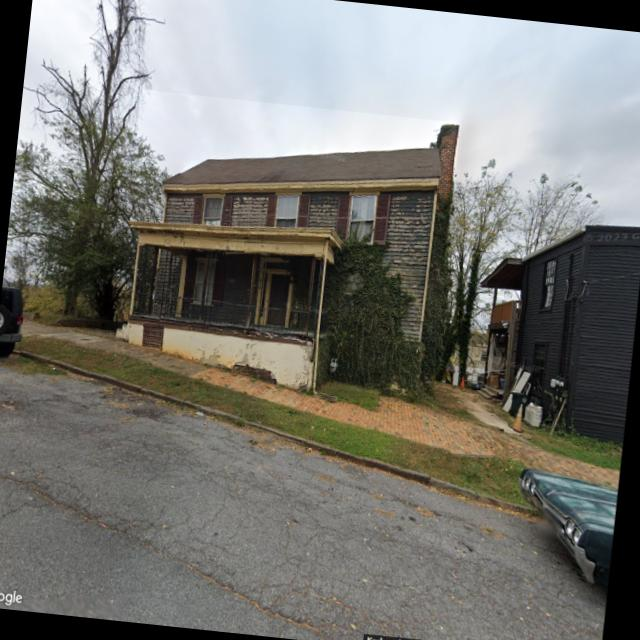House: (112, 89, 461, 399), (464, 210, 640, 442)
